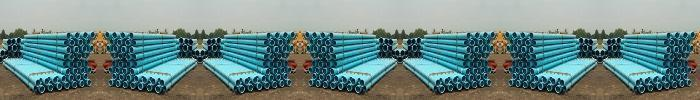pipe: (329, 47, 334, 54), (266, 47, 271, 54), (466, 47, 471, 54), (129, 47, 134, 54), (529, 47, 534, 54), (66, 47, 71, 54), (666, 47, 671, 54), (320, 32, 325, 38), (342, 77, 347, 83), (360, 80, 365, 86), (388, 39, 393, 45), (383, 45, 388, 51), (381, 52, 386, 58), (357, 78, 362, 84), (275, 32, 280, 38), (475, 32, 480, 38), (120, 32, 125, 38), (520, 32, 525, 38), (75, 32, 80, 38), (675, 32, 680, 38), (253, 77, 258, 83), (453, 77, 458, 83), (142, 77, 147, 83), (542, 77, 547, 83), (53, 77, 58, 83), (653, 77, 658, 83), (235, 80, 240, 86), (435, 80, 440, 86), (160, 80, 165, 86), (560, 80, 565, 86), (35, 80, 40, 86), (635, 80, 640, 86), (207, 39, 212, 45), (407, 39, 412, 45), (188, 39, 193, 45), (588, 39, 593, 45), (7, 39, 12, 45), (607, 39, 612, 45), (212, 45, 217, 51), (412, 45, 417, 51), (183, 45, 188, 51), (583, 45, 588, 51), (12, 45, 17, 51), (612, 45, 617, 51), (214, 52, 219, 58), (414, 52, 419, 58), (181, 52, 186, 58), (581, 52, 586, 58), (14, 52, 19, 58), (614, 52, 619, 58), (238, 78, 243, 84), (438, 78, 443, 84), (157, 78, 162, 84), (557, 78, 562, 84), (38, 78, 43, 84), (638, 78, 643, 84), (322, 68, 326, 75), (319, 74, 323, 81), (312, 73, 316, 80), (347, 84, 351, 91), (351, 78, 355, 85), (274, 68, 278, 75), (474, 68, 478, 75), (122, 68, 126, 75), (522, 68, 526, 75), (74, 68, 78, 75), (674, 68, 678, 75), (277, 74, 281, 81), (477, 74, 481, 81), (119, 74, 123, 81), (519, 74, 523, 81), (77, 74, 81, 81), (677, 74, 681, 81), (284, 73, 288, 80), (484, 73, 488, 80), (112, 73, 116, 80), (512, 73, 516, 80), (84, 73, 88, 80), (684, 73, 688, 80), (249, 84, 253, 91), (449, 84, 453, 91), (147, 84, 151, 91), (547, 84, 551, 91), (49, 84, 53, 91), (649, 84, 653, 91), (245, 78, 249, 85), (445, 78, 449, 85), (151, 78, 155, 85), (551, 78, 555, 85), (45, 78, 49, 85), (645, 78, 649, 85), (395, 51, 400, 56), (378, 52, 383, 57), (384, 39, 389, 44), (200, 51, 205, 56), (400, 51, 405, 56), (195, 51, 200, 56), (595, 51, 600, 56), (0, 51, 5, 56), (600, 51, 605, 56), (217, 52, 222, 57), (417, 52, 422, 57), (178, 52, 183, 57), (578, 52, 583, 57), (17, 52, 22, 57), (617, 52, 622, 57), (211, 39, 216, 44), (411, 39, 416, 44), (184, 39, 189, 44), (584, 39, 589, 44), (11, 39, 16, 44), (611, 39, 616, 44), (305, 32, 309, 38), (313, 32, 317, 38), (309, 39, 313, 45), (306, 46, 310, 52), (313, 46, 317, 52), (317, 39, 321, 45), (329, 33, 333, 39), (321, 47, 325, 53), (318, 53, 322, 59), (326, 54, 330, 60), (326, 61, 330, 67), (330, 69, 334, 75), (334, 76, 338, 82), (309, 80, 313, 86), (323, 82, 327, 88), (338, 83, 342, 89), (356, 86, 360, 92), (379, 38, 383, 44), (392, 50, 396, 56), (380, 44, 384, 50), (341, 75, 345, 81), (349, 76, 353, 82), (291, 32, 295, 38), (491, 32, 495, 38), (105, 32, 109, 38), (505, 32, 509, 38), (91, 32, 95, 38), (691, 32, 695, 38), (283, 32, 287, 38), (483, 32, 487, 38), (113, 32, 117, 38), (513, 32, 517, 38), (83, 32, 87, 38), (683, 32, 687, 38), (287, 39, 291, 45), (487, 39, 491, 45), (109, 39, 113, 45), (509, 39, 513, 45), (87, 39, 91, 45), (687, 39, 691, 45), (290, 46, 294, 52), (490, 46, 494, 52), (106, 46, 110, 52), (506, 46, 510, 52), (90, 46, 94, 52), (690, 46, 694, 52), (283, 46, 287, 52), (483, 46, 487, 52), (113, 46, 117, 52), (513, 46, 517, 52), (83, 46, 87, 52), (683, 46, 687, 52), (279, 39, 283, 45), (479, 39, 483, 45), (117, 39, 121, 45), (517, 39, 521, 45), (79, 39, 83, 45), (679, 39, 683, 45), (267, 33, 271, 39), (467, 33, 471, 39), (129, 33, 133, 39), (529, 33, 533, 39), (67, 33, 71, 39), (667, 33, 671, 39), (275, 47, 279, 53), (475, 47, 479, 53), (121, 47, 125, 53), (521, 47, 525, 53), (75, 47, 79, 53), (675, 47, 679, 53), (278, 53, 282, 59), (478, 53, 482, 59), (118, 53, 122, 59), (518, 53, 522, 59), (78, 53, 82, 59), (678, 53, 682, 59), (270, 54, 274, 60), (470, 54, 474, 60), (126, 54, 130, 60), (526, 54, 530, 60), (70, 54, 74, 60), (670, 54, 674, 60), (270, 61, 274, 67), (470, 61, 474, 67), (126, 61, 130, 67), (526, 61, 530, 67), (70, 61, 74, 67), (670, 61, 674, 67), (266, 69, 270, 75), (466, 69, 470, 75), (130, 69, 134, 75), (530, 69, 534, 75), (66, 69, 70, 75), (666, 69, 670, 75), (262, 76, 266, 82), (462, 76, 466, 82), (134, 76, 138, 82), (534, 76, 538, 82), (62, 76, 66, 82), (662, 76, 666, 82), (287, 80, 291, 86), (487, 80, 491, 86), (109, 80, 113, 86), (509, 80, 513, 86), (87, 80, 91, 86), (687, 80, 691, 86), (273, 82, 277, 88), (473, 82, 477, 88), (123, 82, 127, 88), (523, 82, 527, 88), (73, 82, 77, 88), (673, 82, 677, 88), (258, 83, 262, 89), (458, 83, 462, 89), (138, 83, 142, 89), (538, 83, 542, 89), (58, 83, 62, 89), (658, 83, 662, 89), (240, 86, 244, 92), (440, 86, 444, 92), (156, 86, 160, 92), (556, 86, 560, 92), (40, 86, 44, 92), (640, 86, 644, 92), (217, 38, 221, 44), (417, 38, 421, 44), (179, 38, 183, 44), (579, 38, 583, 44), (17, 38, 21, 44), (617, 38, 621, 44), (204, 50, 208, 56), (404, 50, 408, 56), (192, 50, 196, 56), (592, 50, 596, 56), (4, 50, 8, 56), (604, 50, 608, 56), (216, 44, 220, 50), (416, 44, 420, 50), (180, 44, 184, 50), (580, 44, 584, 50), (16, 44, 20, 50), (616, 44, 620, 50), (255, 75, 259, 81), (455, 75, 459, 81), (141, 75, 145, 81), (541, 75, 545, 81), (55, 75, 59, 81), (655, 75, 659, 81), (247, 76, 251, 82), (447, 76, 451, 82), (149, 76, 153, 82), (549, 76, 553, 82), (47, 76, 51, 82), (647, 76, 651, 82), (326, 39, 329, 46), (316, 67, 319, 74), (271, 39, 274, 46), (471, 39, 474, 46), (126, 39, 129, 46), (526, 39, 529, 46), (71, 39, 74, 46), (671, 39, 674, 46), (281, 67, 284, 74), (481, 67, 484, 74), (116, 67, 119, 74), (516, 67, 519, 74), (81, 67, 84, 74), (681, 67, 684, 74), (388, 46, 392, 51), (208, 46, 212, 51), (408, 46, 412, 51), (188, 46, 192, 51), (588, 46, 592, 51), (8, 46, 12, 51), (608, 46, 612, 51), (311, 52, 314, 58), (312, 61, 315, 67), (309, 67, 312, 73), (327, 75, 330, 81), (331, 83, 334, 89), (316, 80, 319, 86), (286, 52, 289, 58), (486, 52, 489, 58), (111, 52, 114, 58), (511, 52, 514, 58), (86, 52, 89, 58), (686, 52, 689, 58), (285, 61, 288, 67), (485, 61, 488, 67), (112, 61, 115, 67), (512, 61, 515, 67), (85, 61, 88, 67), (685, 61, 688, 67), (288, 67, 291, 73), (488, 67, 491, 73), (109, 67, 112, 73), (509, 67, 512, 73), (88, 67, 91, 73), (688, 67, 691, 73), (270, 75, 273, 81), (470, 75, 473, 81), (127, 75, 130, 81), (527, 75, 530, 81), (70, 75, 73, 81), (670, 75, 673, 81), (266, 83, 269, 89), (466, 83, 469, 89), (131, 83, 134, 89), (531, 83, 534, 89), (66, 83, 69, 89), (666, 83, 669, 89), (281, 80, 284, 86), (481, 80, 484, 86), (116, 80, 119, 86), (516, 80, 519, 86), (81, 80, 84, 86), (681, 80, 684, 86), (333, 40, 336, 45), (334, 61, 337, 66), (319, 62, 322, 67), (363, 86, 366, 91), (264, 40, 267, 45), (464, 40, 467, 45), (133, 40, 136, 45), (533, 40, 536, 45), (64, 40, 67, 45), (664, 40, 667, 45), (263, 61, 266, 66), (463, 61, 466, 66), (134, 61, 137, 66), (534, 61, 537, 66), (63, 61, 66, 66), (663, 61, 666, 66), (278, 62, 281, 67), (478, 62, 481, 67), (119, 62, 122, 67), (519, 62, 522, 67), (78, 62, 81, 67), (678, 62, 681, 67), (234, 86, 237, 91), (434, 86, 437, 91), (163, 86, 166, 91), (563, 86, 566, 91), (34, 86, 37, 91), (634, 86, 637, 91), (333, 55, 336, 59), (264, 55, 267, 59), (464, 55, 467, 59), (133, 55, 136, 59), (533, 55, 536, 59), (64, 55, 67, 59), (664, 55, 667, 59)
